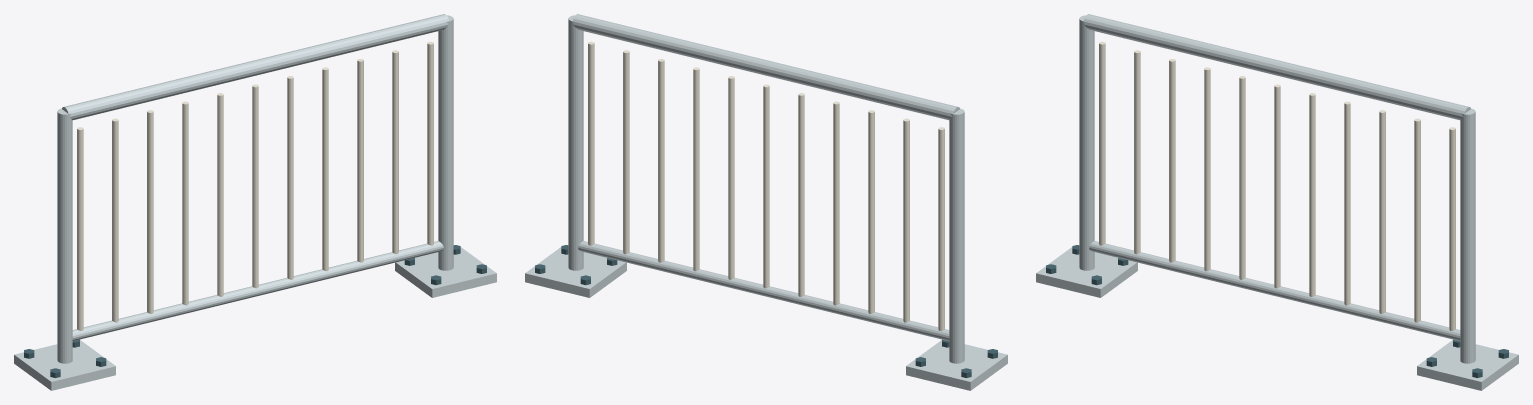
The model's file is waterpark-and-pool-operations-waterpark-and-pool-opera-de93bbad__28982.glb.
The picture shows the model from 3 angles, left to right: view 1: azimuth 30°, elevation 25°; view 2: azimuth 150°, elevation 25°; view 3: azimuth 330°, elevation 25°; orthographic projection.
Visible parts, largest first — view 1: waterpark-and-pool-operations-perimeter-fence-straight; view 2: waterpark-and-pool-operations-perimeter-fence-straight; view 3: waterpark-and-pool-operations-perimeter-fence-straight.
Part boxes in pixels (x1,y1,x2,y2): waterpark-and-pool-operations-perimeter-fence-straight: (14, 14, 496, 390); waterpark-and-pool-operations-perimeter-fence-straight: (525, 14, 1007, 390); waterpark-and-pool-operations-perimeter-fence-straight: (1036, 14, 1518, 390).
Bounding box in the file's own units: 2.34 × 1.32 × 0.3399.
